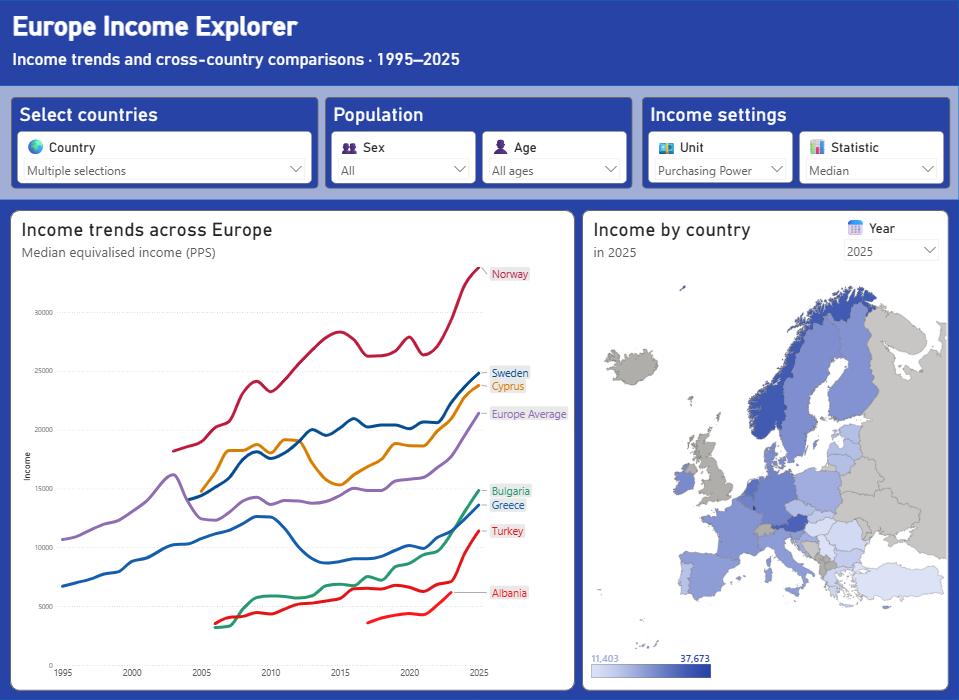

Layout of this report page (visuals, bound fields, positions):
{"tool":"powerbi","page":{"name":"Income Distribution Dashboard","canvas":[1920,1300],"ordinal":0},"visuals":[{"type":"shape","title":"Background","box":[0,0,1920,1400],"z":0},{"type":"shape","title":"Line Chart Background","box":[21.7,420,1130,861.7],"z":1000},{"type":"shape","title":"Map Background","box":[1166.7,420,733.3,861.7],"z":2000},{"type":"shape","title":"Filters Background","box":[20,173.3,1880,226.7],"z":3000},{"type":"shape","title":"Title Background","box":[0,0,1920,171.7],"z":4000},{"type":"shape","title":"Countries Background","box":[45.7,196.7,595,180.6],"z":5000},{"type":"shape","title":"Demographics Background","box":[663,196,595,180.7],"z":6000},{"type":"shape","title":"Income Background","box":[1281.7,195.8,595,181.7],"z":7000},{"type":"shapeMap","title":"Income by country","fields":{"Category":["dim_country.country_name"]},"box":[1184,436,716,840],"z":8000},{"type":"lineChart","title":"Income trends across Europe","fields":{"Category":["fact_income.year"],"Series":["dim_country.country_name"],"Y":["Sum(fact_income.income)"]},"box":[40,436,1112,840],"z":9000},{"type":"slicer","fields":{"Values":["dim_country.country_name"]},"box":[59.5,259.5,567,105.5],"z":10000},{"type":"slicer","fields":{"Values":["fact_income.year"]},"box":[1680,423.3,210,96.7],"z":11000},{"type":"slicer","fields":{"Values":["dim_sex.sex_label"]},"box":[676.7,259.4,277,105],"z":12000},{"type":"slicer","fields":{"Values":["dim_age.age_label"]},"box":[966.7,260,276.7,105],"z":13000},{"type":"slicer","fields":{"Values":["dim_unit.unit_label"]},"box":[1295.9,259.4,277,105],"z":14000},{"type":"slicer","fields":{"Values":["dim_statinfo.statinfo_label"]},"box":[1585,260,276.7,105],"z":15000},{"type":"textbox","title":"Title","box":[22.5,0,931.7,141.7],"z":16000},{"type":"image","title":"Map Legend","box":[1185,1232.6,240,40],"z":17000},{"type":"cardVisual","title":"Legend Max","fields":{"Data":["fact_income.Legend Max"]},"box":[1305,1191.2,147.1,67.1],"z":18000},{"type":"cardVisual","title":"Legend Min","fields":{"Data":["fact_income.Legend Min"]},"box":[1156.7,1187.1,163.4,74.7],"z":19000},{"type":"textbox","title":"Countries Select","box":[60,200,308.3,70],"z":20000},{"type":"textbox","title":"Population Select","box":[674.8,200,203.8,70.8],"z":21000},{"type":"textbox","title":"Unit Settings Select","box":[1295,200,296.7,71.7],"z":22000},{"type":"textbox","box":[1692.5,22.5,206.7,95],"z":23000}]}

Visuals, with their boxes on the page's 1920x1300 design canvas (x1, y1, x2, y2). These are canvas units, not pixel positions in the 959x700 screenshot, which may show the page scaled, cropped or inside an application window:
"Background" shape: box(0, 0, 1920, 1400)
"Line Chart Background" shape: box(22, 420, 1152, 1282)
"Map Background" shape: box(1167, 420, 1900, 1282)
"Filters Background" shape: box(20, 173, 1900, 400)
"Title Background" shape: box(0, 0, 1920, 172)
"Countries Background" shape: box(46, 197, 641, 377)
"Demographics Background" shape: box(663, 196, 1258, 377)
"Income Background" shape: box(1282, 196, 1877, 378)
"Income by country" shapeMap: box(1184, 436, 1900, 1276)
"Income trends across Europe" lineChart: box(40, 436, 1152, 1276)
slicer - dim_country.country_name: box(60, 260, 626, 365)
slicer - fact_income.year: box(1680, 423, 1890, 520)
slicer - dim_sex.sex_label: box(677, 259, 954, 364)
slicer - dim_age.age_label: box(967, 260, 1243, 365)
slicer - dim_unit.unit_label: box(1296, 259, 1573, 364)
slicer - dim_statinfo.statinfo_label: box(1585, 260, 1862, 365)
"Title" textbox: box(22, 0, 954, 142)
"Map Legend" image: box(1185, 1233, 1425, 1273)
"Legend Max" cardVisual: box(1305, 1191, 1452, 1258)
"Legend Min" cardVisual: box(1157, 1187, 1320, 1262)
"Countries Select" textbox: box(60, 200, 368, 270)
"Population Select" textbox: box(675, 200, 879, 271)
"Unit Settings Select" textbox: box(1295, 200, 1592, 272)
textbox: box(1692, 22, 1899, 118)
